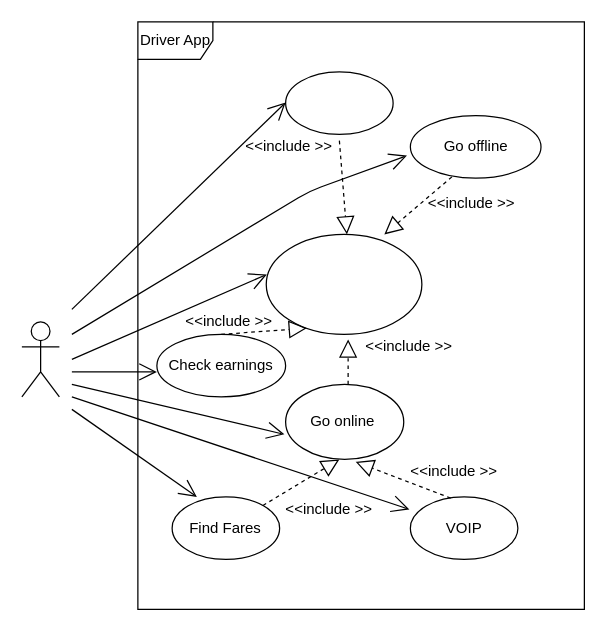
Some shapes in this 606 by 631 pixel diagram are drawn without their labels. The shapes that lost their labels are listed below. From the top down, each one's centre as x and y in pixels, then its label:
the point at 338,102: Log out
the point at 343,283: Log in
the point at 40,359: Actor
